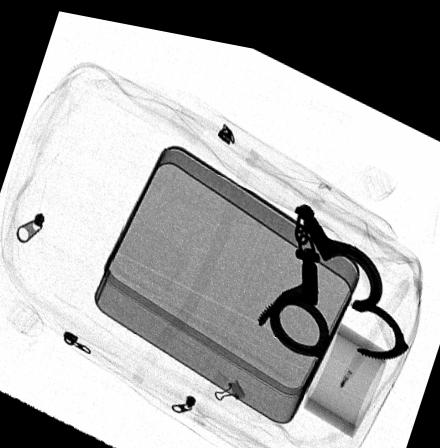HandCuffs: (256, 192, 409, 345)
